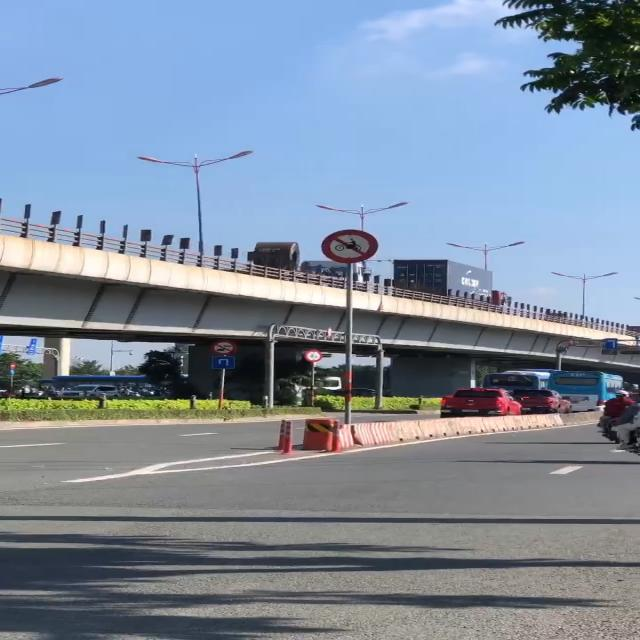Bien bao cam xe may: (319, 227, 384, 267)
Bien bao cam xe oto khach va xe oto tai: (210, 339, 239, 355)
